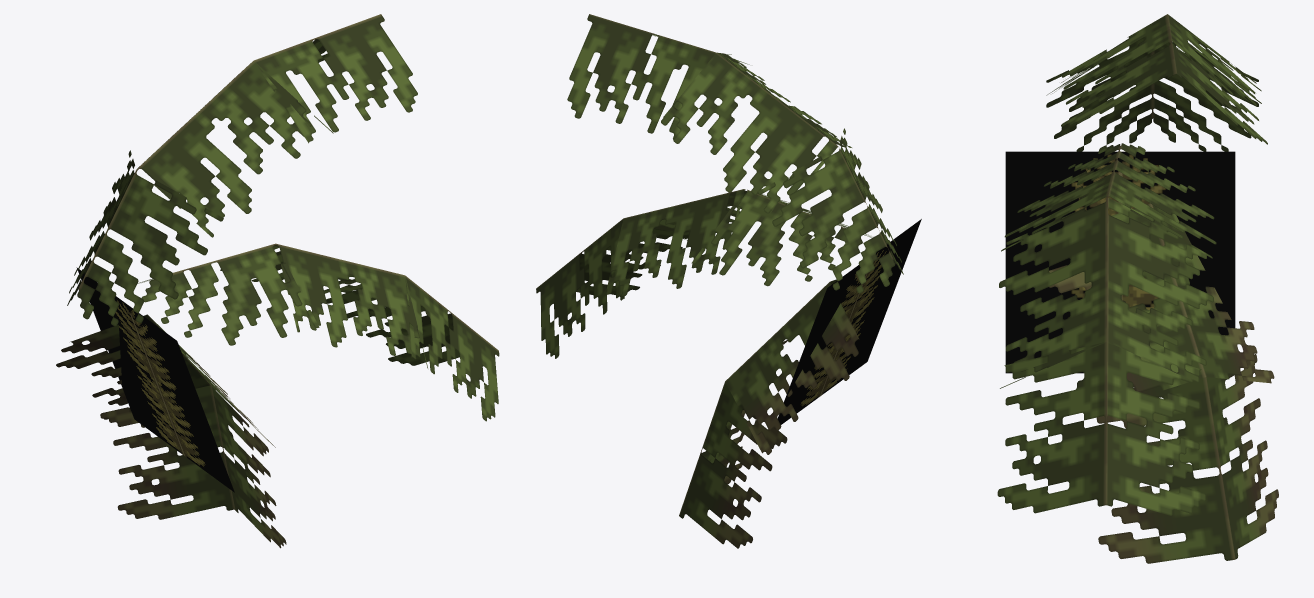
Rendered from date_palm_straight_1.obj.
3 renders of one model, left to right at view 1: azimuth 30°, elevation 25°; view 2: azimuth 150°, elevation 25°; view 3: azimuth 270°, elevation 25°, orthographic. The views are drawn at different scales.
Visible parts, largest first — view 1: cube.232; view 2: cube.232; view 3: cube.232.
Boxes of the visible parts, bbox=[...] form: cube.232: bbox=[56, 14, 499, 548]; cube.232: bbox=[536, 14, 921, 548]; cube.232: bbox=[997, 14, 1278, 563].
Bounding box in the file's own units: 3.59 × 4.1 × 2.15.
